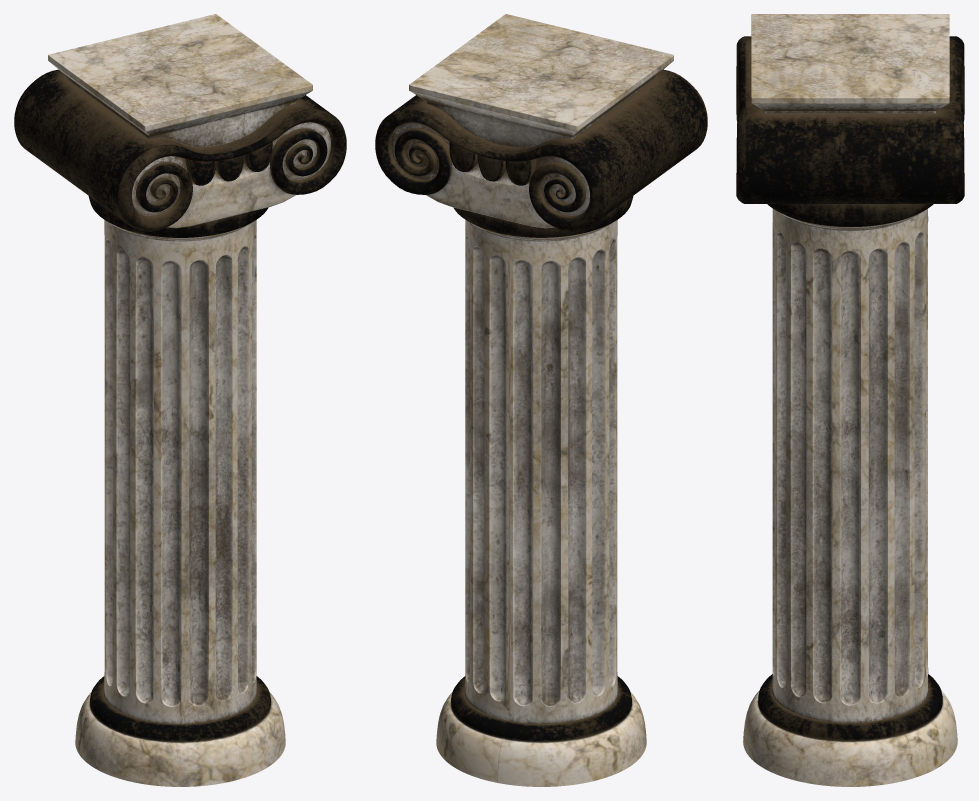
The model's file is colonne.obj.
3 renders of one model, left to right at view 1: azimuth 30°, elevation 25°; view 2: azimuth 150°, elevation 25°; view 3: azimuth 270°, elevation 25°, orthographic.
Parts seen in each view (by area): view 1: Capsule014; view 2: Capsule014; view 3: Capsule014.
Part boxes in pixels (left/top/right/bottom): Capsule014: left=14, top=14, right=346, bottom=786; Capsule014: left=375, top=14, right=707, bottom=786; Capsule014: left=736, top=14, right=964, bottom=786.
Size of the model in its own units: 1.02 by 2.86 by 0.8646.
